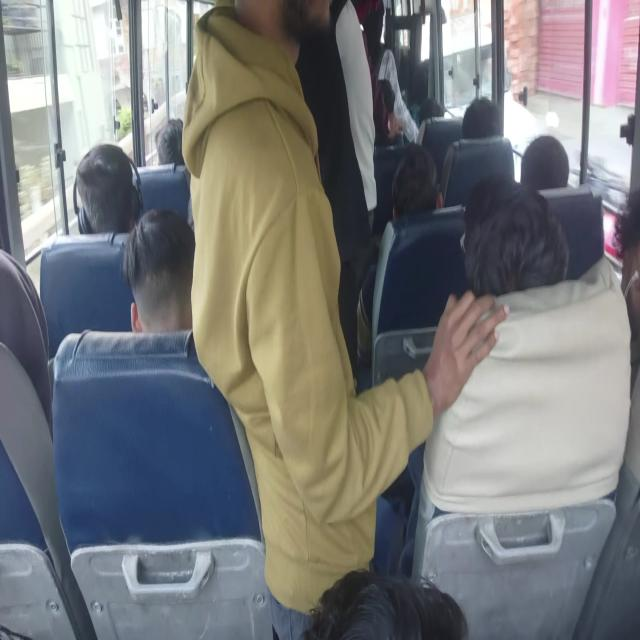person: (459, 188, 627, 369), (207, 0, 335, 229), (126, 221, 250, 403), (286, 1, 370, 231), (326, 509, 446, 640), (75, 158, 150, 296), (585, 160, 640, 347), (0, 264, 46, 455), (340, 0, 382, 126), (389, 152, 443, 222), (522, 138, 580, 199), (364, 2, 408, 67), (361, 92, 407, 141), (463, 100, 498, 144), (162, 113, 188, 167), (423, 86, 448, 127)
